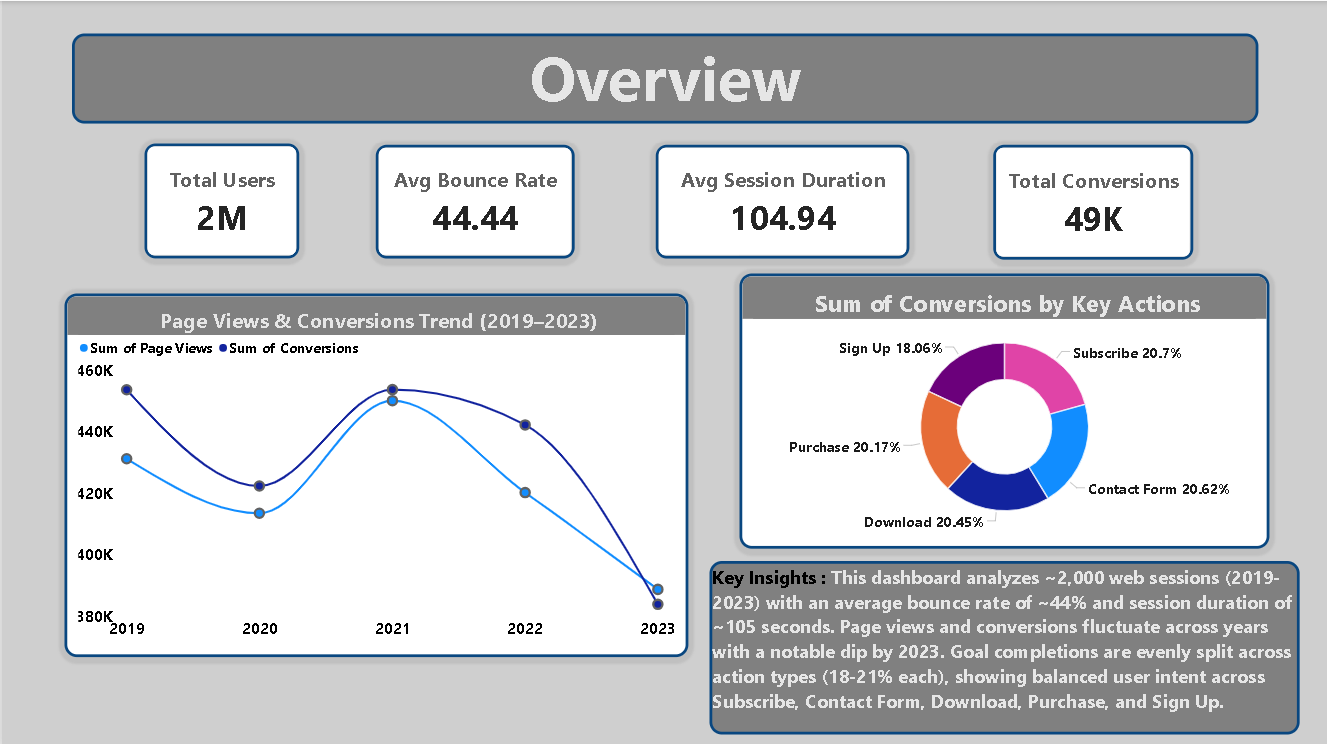

What the dashboard file says about the page in this screenshot:
{"tool":"powerbi","page":{"name":"Overview","canvas":[1920,1080],"ordinal":0},"visuals":[{"type":"cardVisual","fields":{"Data":["cleaned_traffic_data.Total Users"]},"box":[206.3,206.3,224.4,166.5],"z":0},{"type":"cardVisual","fields":{"Data":["Sum(cleaned_traffic_data.Conversions)"]},"box":[1435.1,208.1,289.5,166.5],"z":1000},{"type":"cardVisual","fields":{"Data":["Avg(cleaned_traffic_data.Avg Session Duration)"]},"box":[946.5,208.1,367.4,164.7],"z":2000},{"type":"cardVisual","fields":{"Data":["Avg(cleaned_traffic_data.Bounce Rate)"]},"box":[541.1,208.1,287.7,164.7],"z":3000},{"type":"lineChart","title":" Page Views & Conversions Trend (2019–2023)","fields":{"Category":["cleaned_traffic_data.Date.Variation.Date Hierarchy.Year"],"Y":["Sum(cleaned_traffic_data.Page Views)"],"Y2":["Sum(cleaned_traffic_data.Conversions)"]},"box":[90.5,423.5,903,526.6],"z":4000},{"type":"textbox","box":[101.3,47.1,1717.4,130.3],"z":4001},{"type":"textbox","box":[1024.3,810.7,854.2,251.5],"z":4002},{"type":"donutChart","fields":{"Category":["cleaned_traffic_data.Key Actions"],"Y":["Sum(cleaned_traffic_data.Conversions)"]},"box":[1067.7,394.5,767.3,398.1],"z":4003}]}

Visuals, with their boxes in screenshot pixels (x1, y1, x2, y2), scaled from the page's 1920x1080 canvas onto the 1327x744 screenshot:
cardVisual - cleaned_traffic_data.Total Users: bbox=[143, 142, 298, 257]
cardVisual - Sum(cleaned_traffic_data.Conversions): bbox=[992, 143, 1192, 258]
cardVisual - Avg(cleaned_traffic_data.Avg Session Duration): bbox=[654, 143, 908, 257]
cardVisual - Avg(cleaned_traffic_data.Bounce Rate): bbox=[374, 143, 573, 257]
" Page Views & Conversions Trend (2019–2023)" lineChart: bbox=[63, 292, 687, 655]
textbox: bbox=[70, 32, 1257, 122]
textbox: bbox=[708, 558, 1298, 732]
donutChart - cleaned_traffic_data.Key Actions x Sum(cleaned_traffic_data.Conversions): bbox=[738, 272, 1268, 546]
